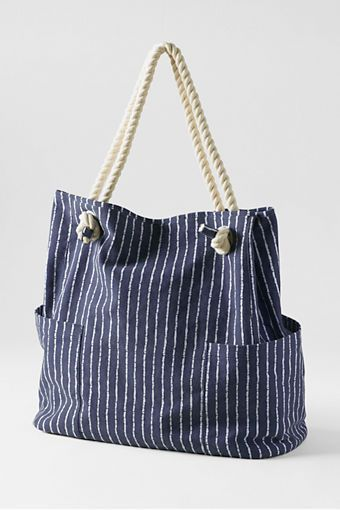nylon: (32, 189, 308, 460)
